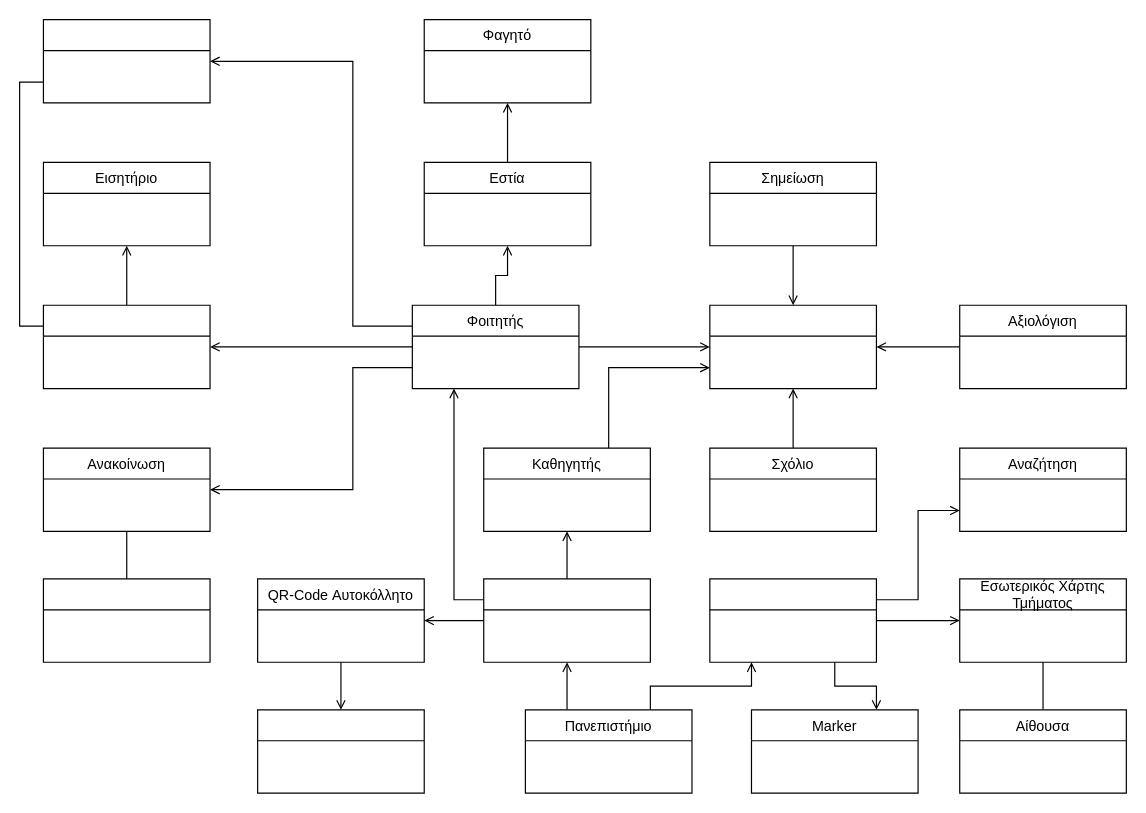
The diagram is 1146 pixels wide and 813 high, and some of its shapes have lost their labels. The centre of each missing label's shape, as x and y in pixels:
"Crawler" goes at point (126, 620).
"Διαχειριστής QR" goes at point (340, 751).
"Εκδοτήριο" goes at point (126, 346).
"Λεωφορείο" goes at point (126, 60).
"Μάθημα" goes at point (792, 346).
"Σχολή" goes at point (566, 620).
"Χάρτης" goes at point (792, 620).
